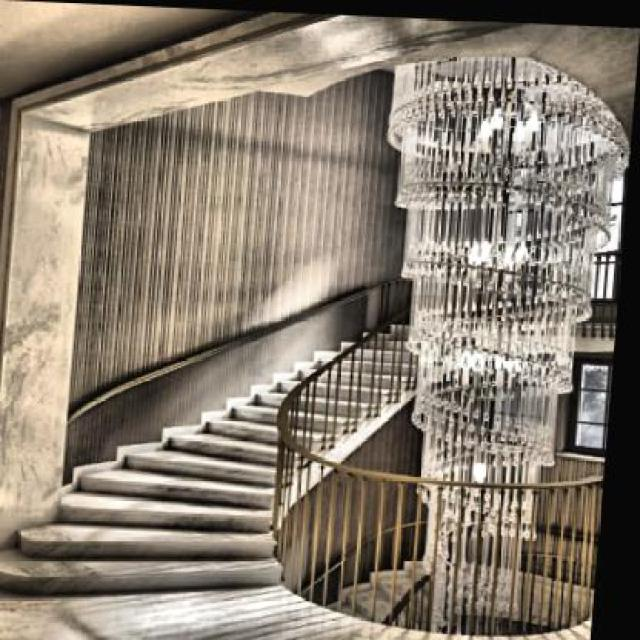stair: (103, 332, 412, 492)
